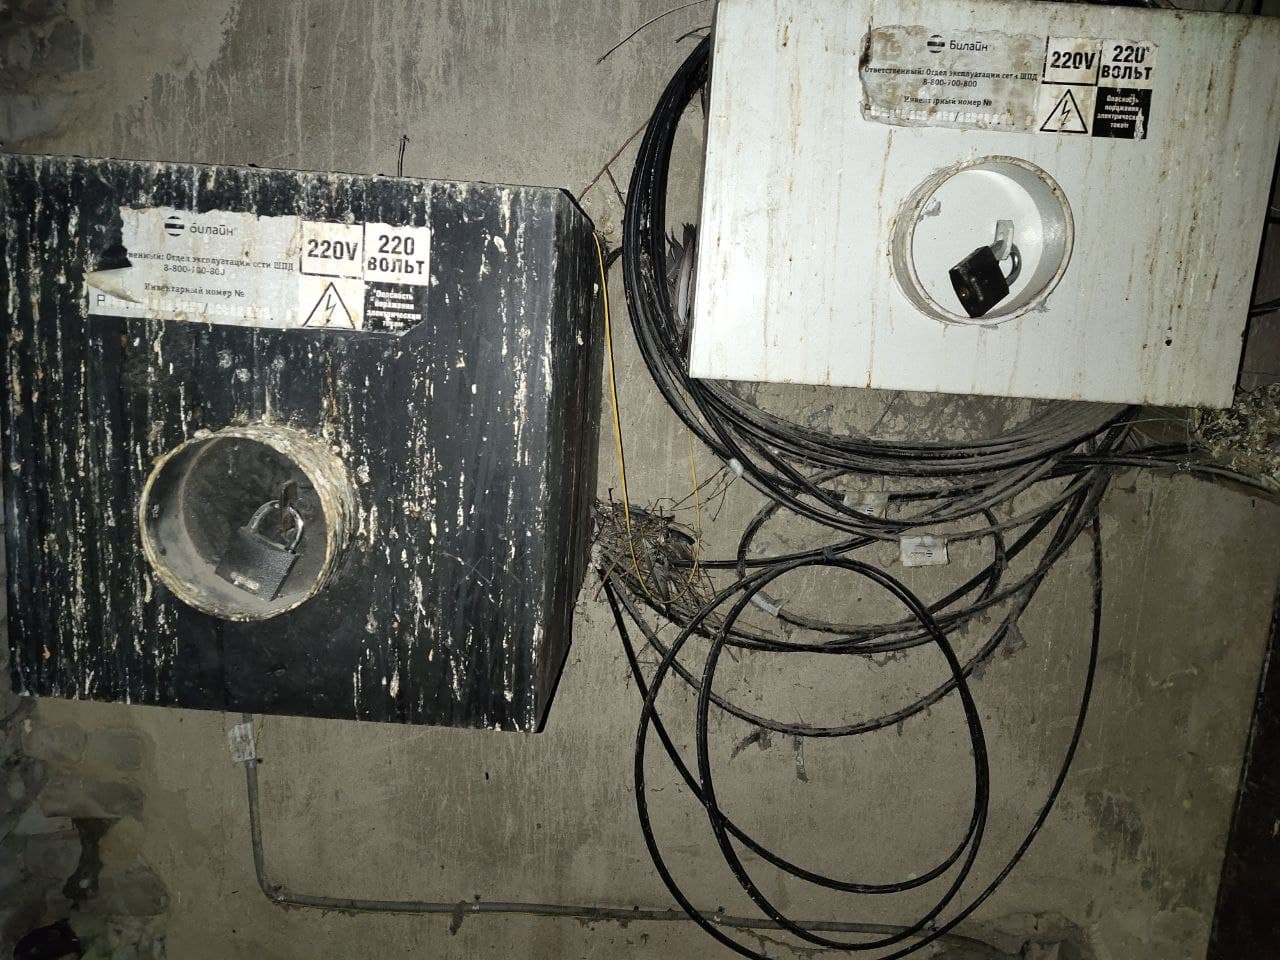shta-3: (685, 3, 1279, 410)
shta-9: (4, 153, 615, 730)
